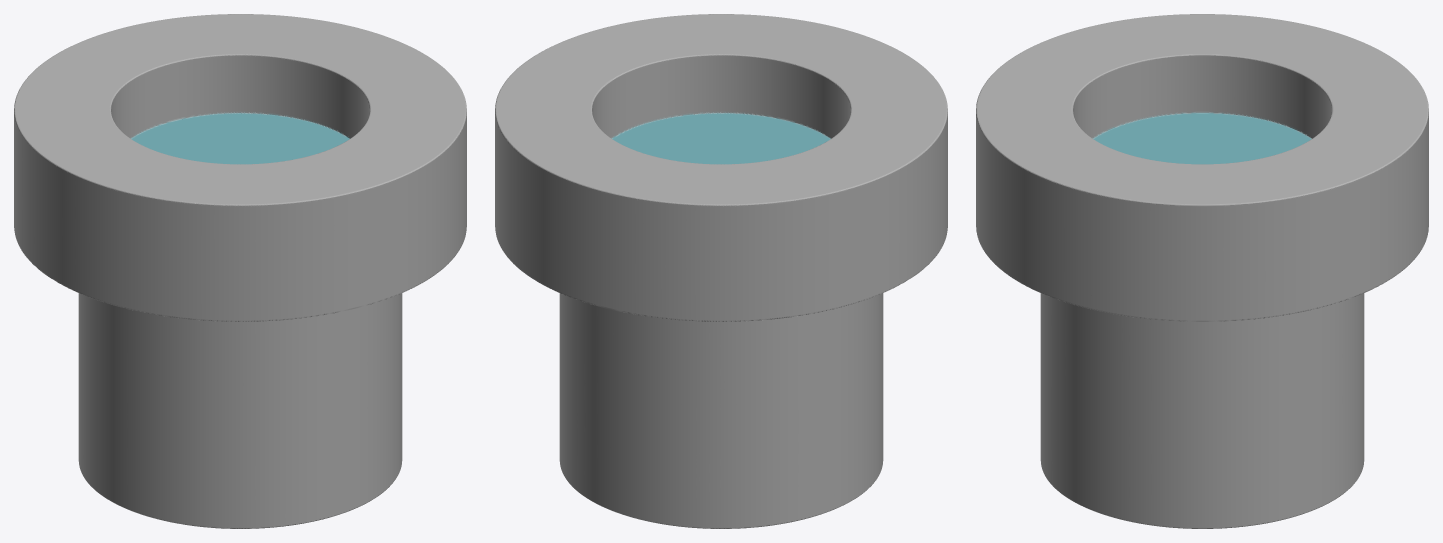
The model's file is Pipe1.fbx.
3 views of the same model, side by side, from view 1: azimuth 30°, elevation 25°; view 2: azimuth 150°, elevation 25°; view 3: azimuth 270°, elevation 25° (orthographic).
Parts seen in each view (by area): view 1: Pipe1; view 2: Pipe1; view 3: Pipe1.
Part boxes in pixels (x1,y1,x2,y2): Pipe1: (14, 14, 466, 528); Pipe1: (495, 14, 947, 528); Pipe1: (976, 14, 1428, 528).
Bounding box in the file's own units: 199 × 171 × 199.
